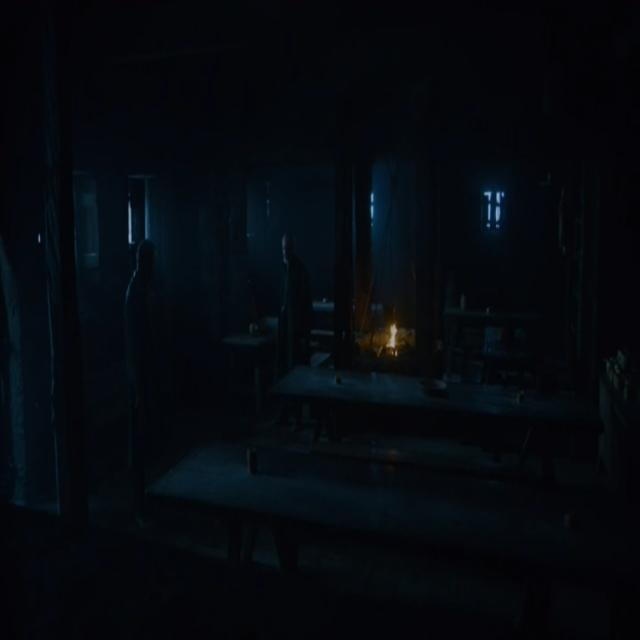People: (116, 202, 177, 425), (265, 211, 336, 395)
